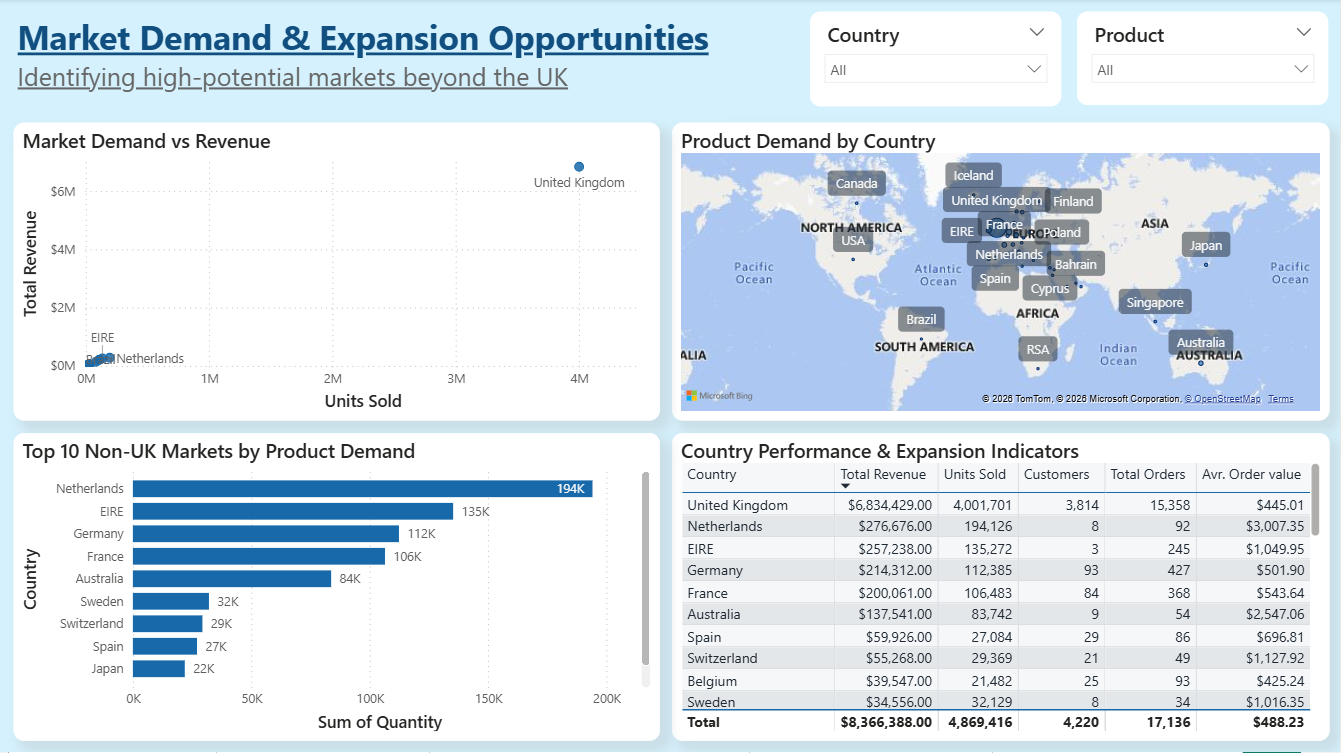

The dashboard page shown, as its layout file describes it:
{"tool":"powerbi","page":{"name":"Expansion Opportunity","canvas":[1280,720],"ordinal":4},"visuals":[{"type":"map","title":"Product Demand by Country","fields":{"Category":["Online Retail Data Set.Country"],"Size":["Sum(Online Retail Data Set.Quantity)"]},"box":[641,119.3,628.3,284.7],"z":0},{"type":"scatterChart","title":"Market Demand vs Revenue","fields":{"X":["Online Retail Data Set.Units Sold"],"Y":["Online Retail Data Set.Total Revenue"],"Category":["Online Retail Data Set.Country"]},"box":[12.7,119.3,617.2,284.7],"z":1000},{"type":"tableEx","title":"Country Performance & Expansion Indicators","fields":{"Values":["Online Retail Data Set.Country","Online Retail Data Set.Total Revenue","Online Retail Data Set.Units Sold","Online Retail Data Set.Customers","Online Retail Data Set.Total Orders","Online Retail Data Set.Average Order value"]},"box":[641,415.1,628.3,294.3],"z":2000},{"type":"barChart","title":"Top 10 Non-UK Markets by Product Demand","fields":{"Category":["Online Retail Data Set.Country"],"Y":["Sum(Online Retail Data Set.Quantity)"]},"box":[12.7,415.1,617.2,294.3],"z":3000},{"type":"slicer","fields":{"Values":["Online Retail Data Set.Description"]},"box":[1029.1,12.7,240.2,89.1],"z":4000},{"type":"textbox","box":[12.1,10.6,685.9,106],"z":5000},{"type":"slicer","fields":{"Values":["Online Retail Data Set.Country"]},"box":[773,12.7,240.2,90.7],"z":6000}]}

Visuals, with their boxes in screenshot pixels (x1, y1, x2, y2), scaled from the page's 1280x720 canvas onto the 1341x753 screenshot:
"Product Demand by Country" map: Rect(672, 125, 1330, 423)
"Market Demand vs Revenue" scatterChart: Rect(13, 125, 660, 423)
"Country Performance & Expansion Indicators" tableEx: Rect(672, 434, 1330, 742)
"Top 10 Non-UK Markets by Product Demand" barChart: Rect(13, 434, 660, 742)
slicer - Online Retail Data Set.Description: Rect(1078, 13, 1330, 106)
textbox: Rect(13, 11, 731, 122)
slicer - Online Retail Data Set.Country: Rect(810, 13, 1061, 108)
